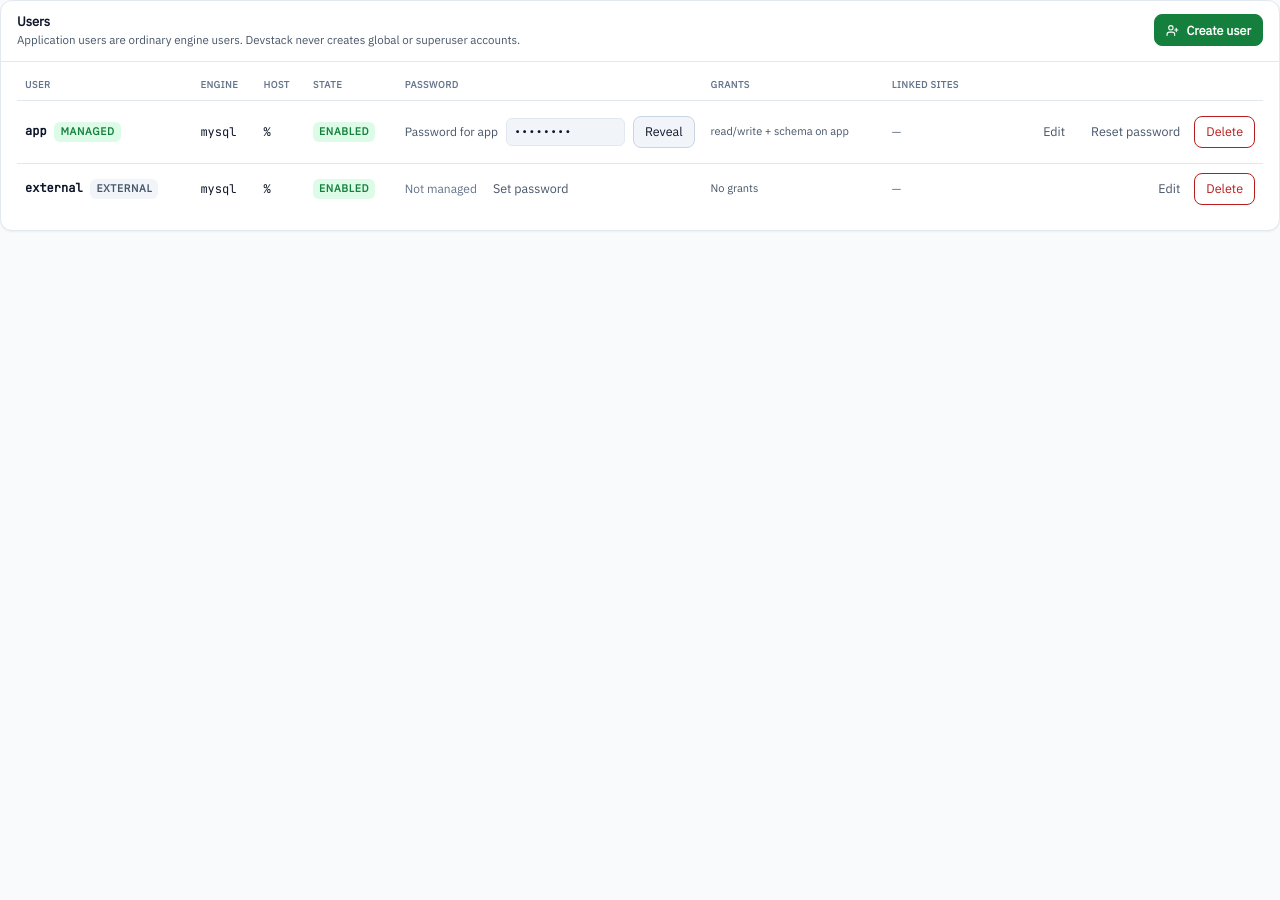
Test: UsersTab › excludes protected databases from grant targets and defaults
The width and height of the screenshot is (1280, 900).
Click the button "Create user".
click(1209, 30)  # box x1=1154 y1=14 x2=1263 y2=46
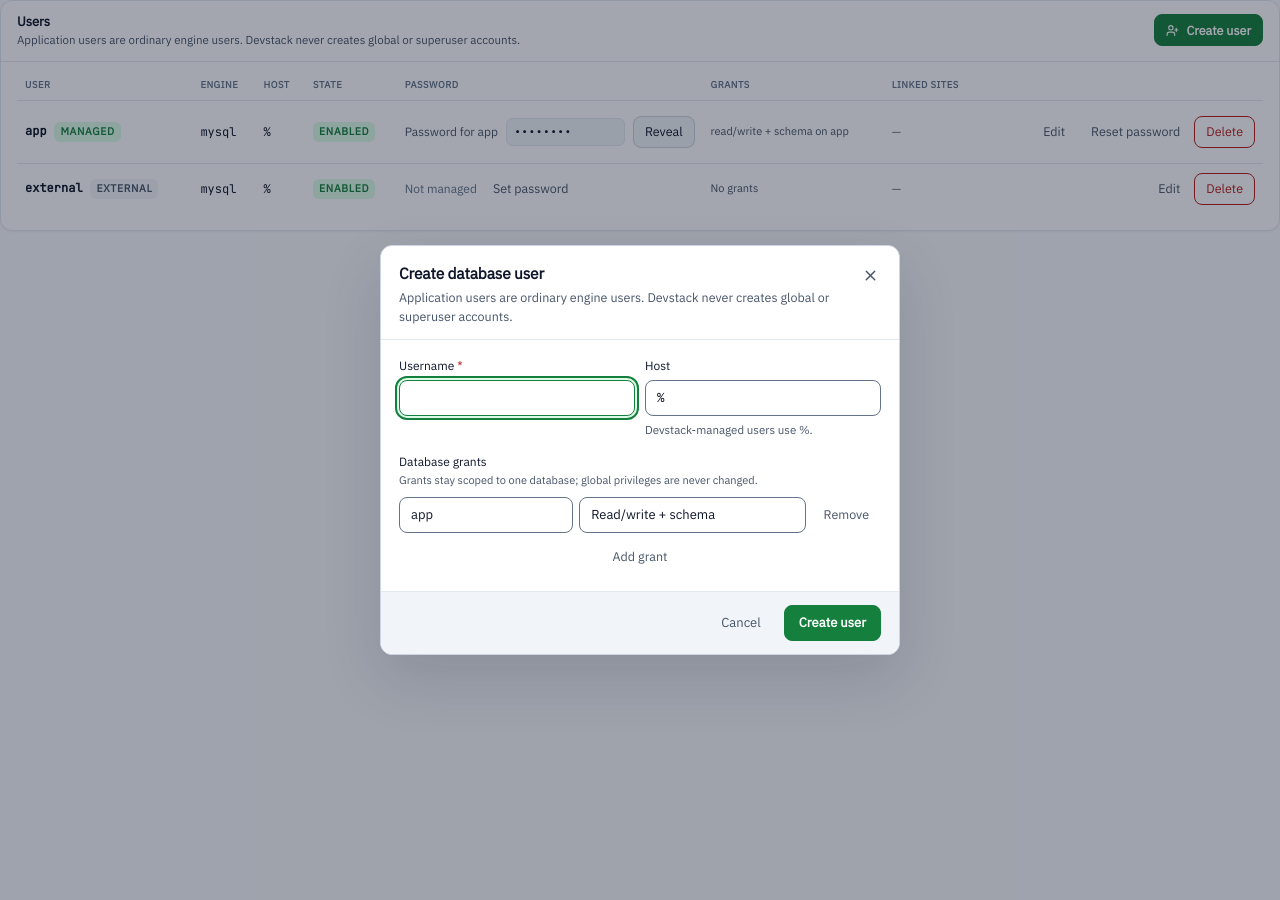
Now the dropdown named "Grant 1 database" shows "app", box x1=399 y1=496 x2=573 y2=532
